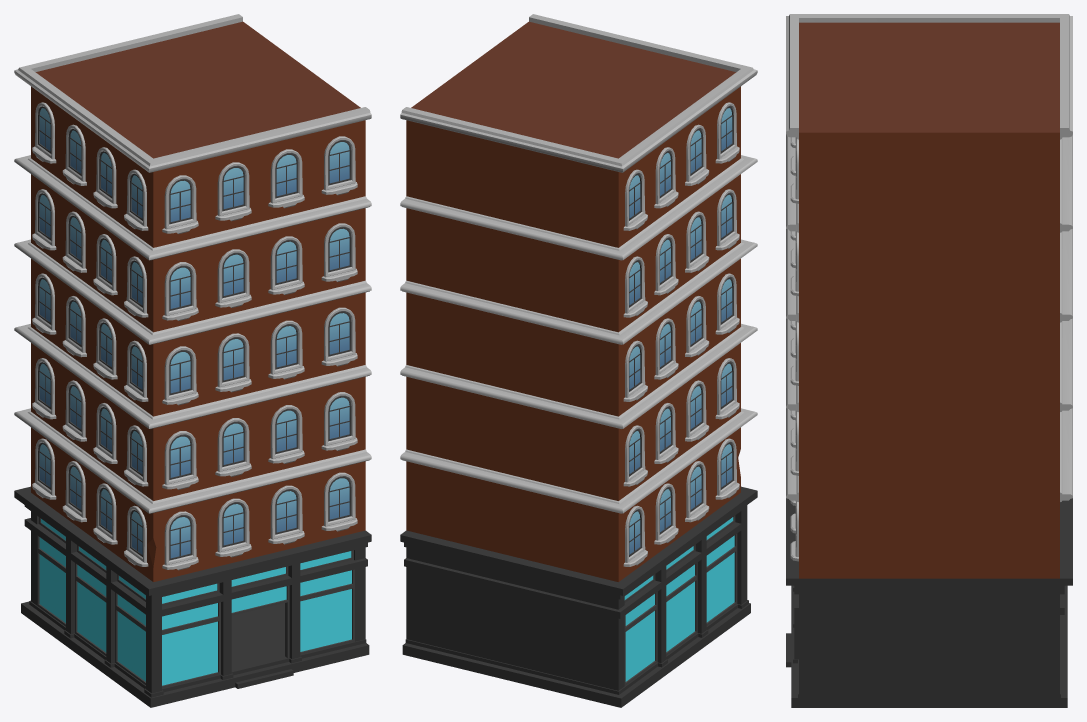
The model's file is SM_Buildings_House_05_V3.fbx.
3 renders of one model, left to right at view 1: azimuth 30°, elevation 25°; view 2: azimuth 150°, elevation 25°; view 3: azimuth 270°, elevation 25°, orthographic. The views are drawn at different scales.
Parts seen in each view (by area): view 1: SM_Buildings_House_05_V3; view 2: SM_Buildings_House_05_V3; view 3: SM_Buildings_House_05_V3.
Part boxes in pixels (x1,y1,x2,y2): SM_Buildings_House_05_V3: (14, 14, 371, 707); SM_Buildings_House_05_V3: (400, 14, 757, 707); SM_Buildings_House_05_V3: (786, 14, 1072, 707).
Bounding box in the file's own units: 10.5 × 24.55 × 11.
